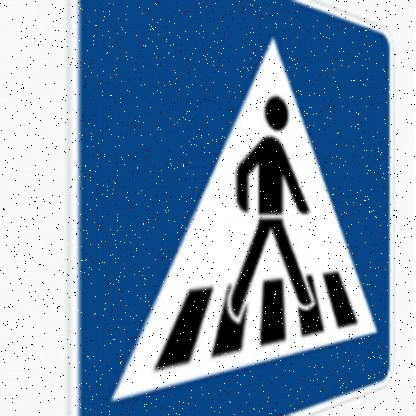Pedestrian Crossing: (70, 1, 401, 416)
